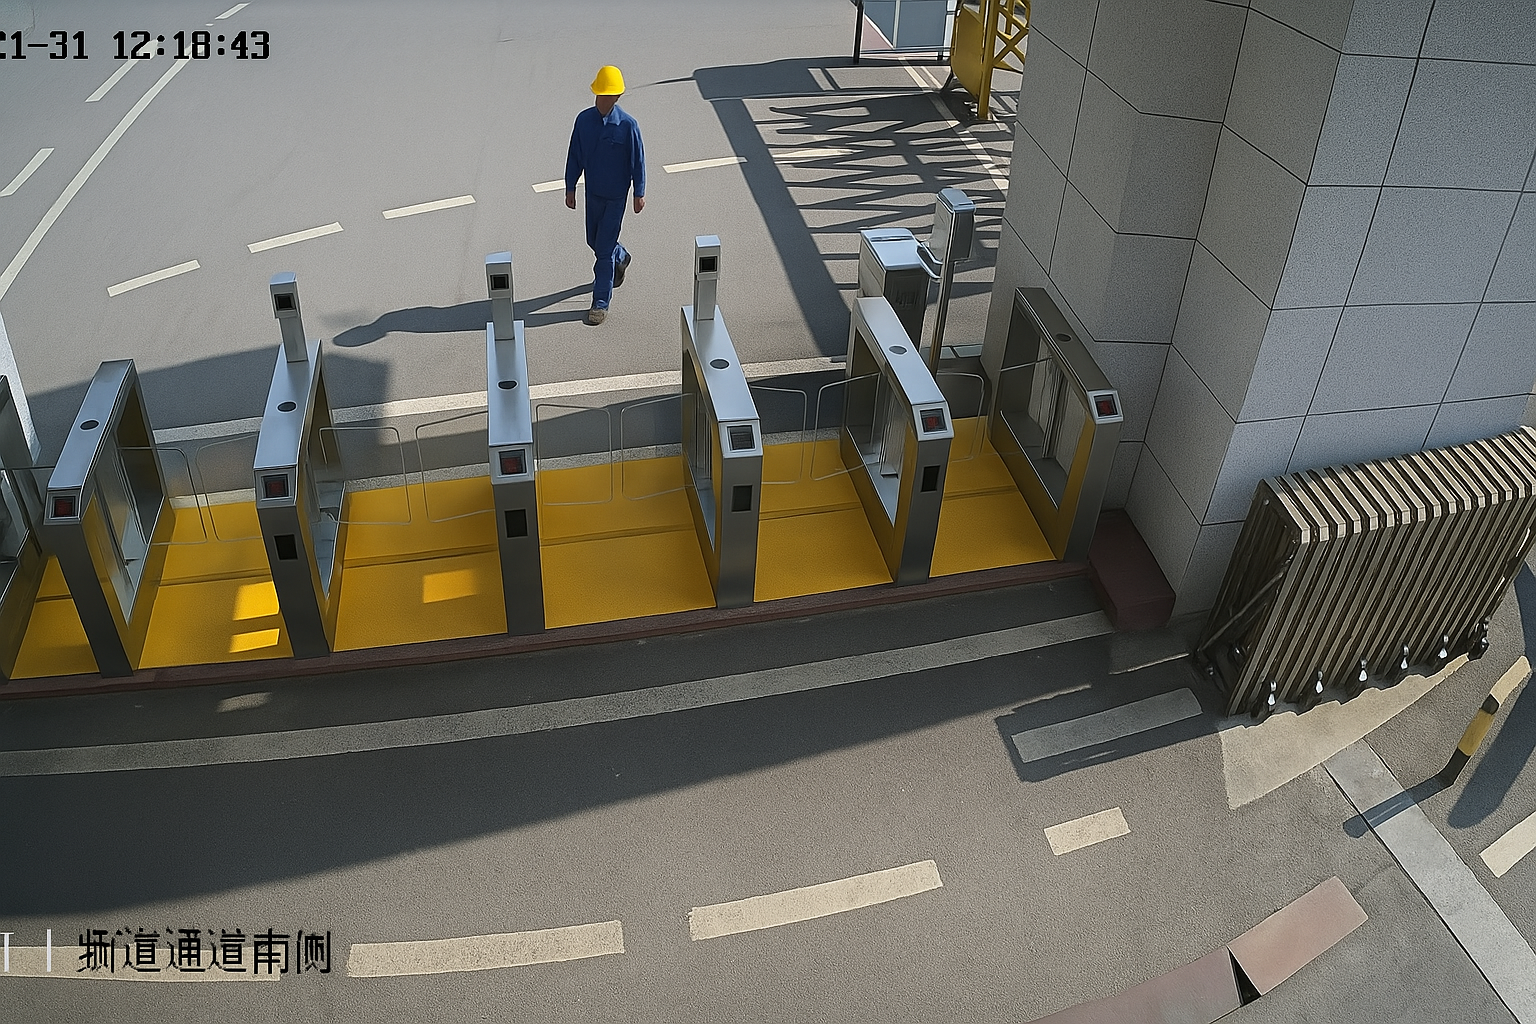safety_cap: (586, 57, 630, 106)
